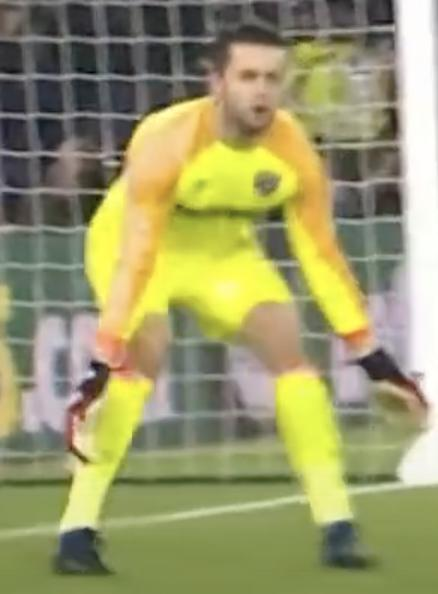goalkeeper: (44, 24, 438, 594)
